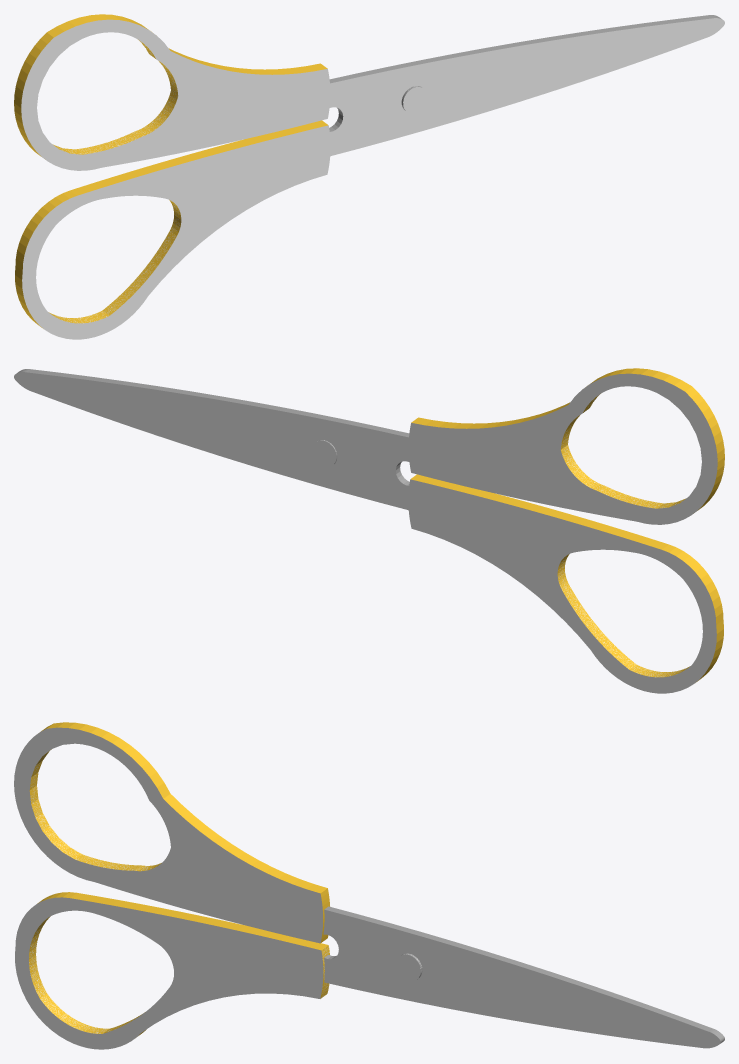
The picture shows the model from 3 angles, top to bottom: view 1: azimuth 30°, elevation 25°; view 2: azimuth 150°, elevation 25°; view 3: azimuth 330°, elevation 25°; orthographic projection.
Parts seen in each view (by area): view 1: yellow scissors sketchup; view 2: yellow scissors sketchup; view 3: yellow scissors sketchup.
Boxes of the visible parts, x1,y1,x2,y2 form: yellow scissors sketchup: (14, 14, 724, 339); yellow scissors sketchup: (14, 368, 724, 693); yellow scissors sketchup: (14, 722, 724, 1049).
Size of the model in its own units: 17.51 by 7.51 by 0.3125.
